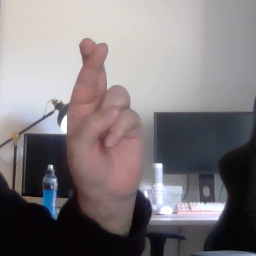R: (60, 35, 150, 190)
